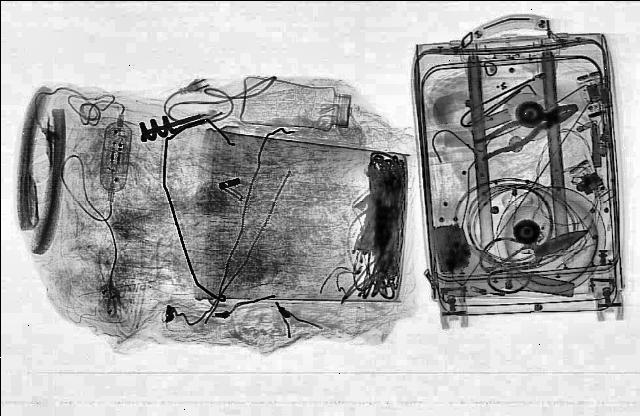Pliers: (460, 96, 586, 164)
Scissors: (453, 209, 611, 296)
